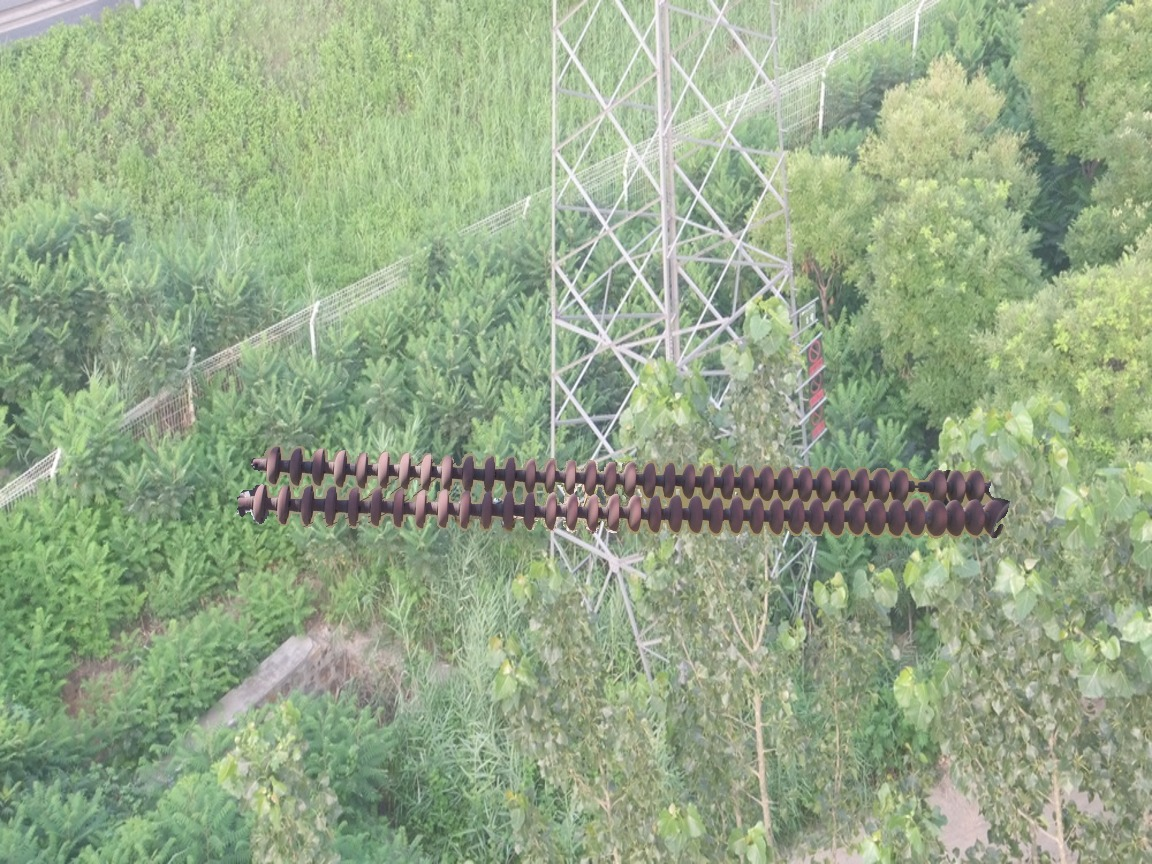defect: (891, 462, 949, 502)
